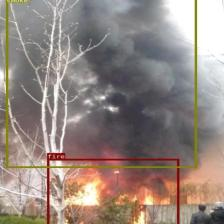fire: (46, 158, 179, 224)
smoke: (6, 0, 196, 168)
